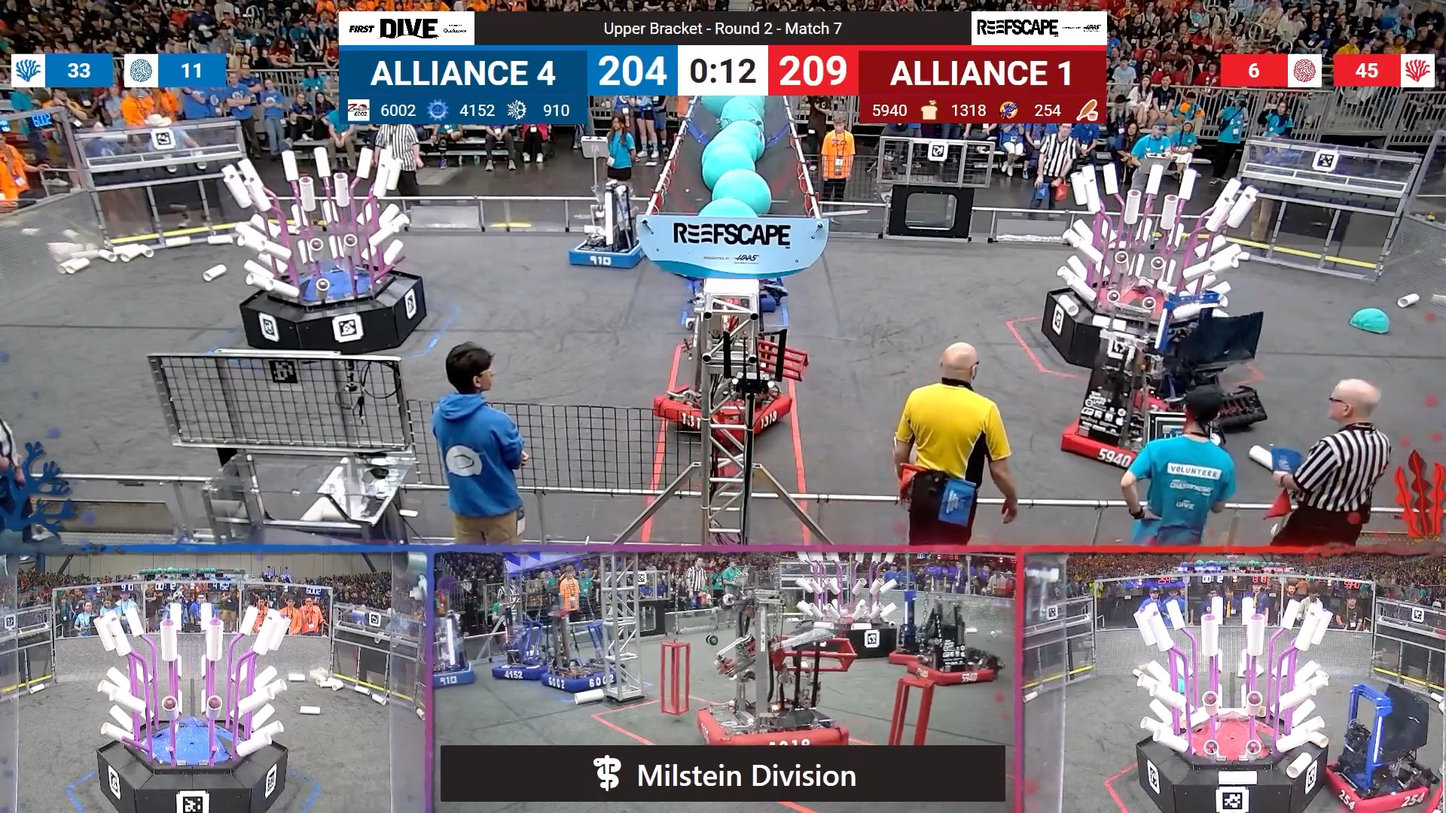bumpers: (1052, 409, 1185, 478), (1313, 763, 1438, 813), (701, 712, 853, 750), (565, 232, 654, 272), (900, 653, 1002, 685), (530, 667, 617, 694), (491, 660, 561, 684), (426, 666, 476, 692)
